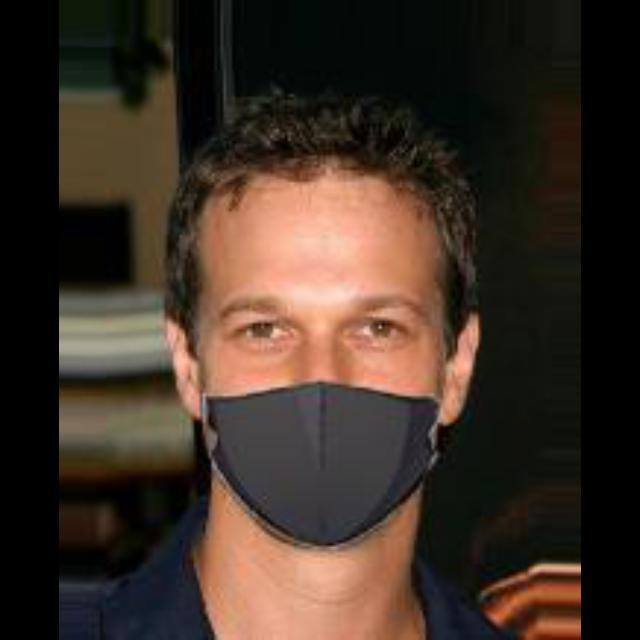suspicion: (143, 126, 512, 487)
